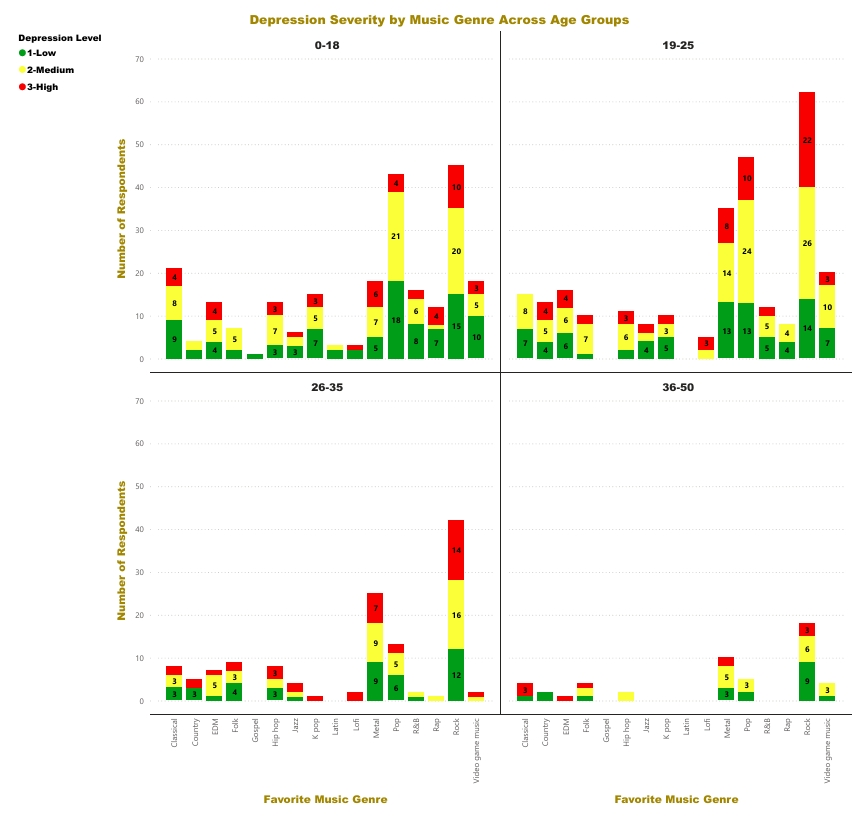

This screenshot's page, from the dashboard's own definition file:
{"tool":"powerbi","page":{"name":"Depression","canvas":[1280,1200],"ordinal":1},"visuals":[{"type":"columnChart","title":"Depression Severity by Music Genre Across Age Groups","fields":{"Category":["survey_results.Fav genre"],"Y":["CountNonNull(survey_results.Age)"],"Rows":["survey_results.Age Group"],"Series":["survey_results.Depression Level"]},"box":[9,0,1271.6,1200],"z":0}]}

Visuals, with their boxes in screenshot pixels (x1, y1, x2, y2), scaled from the page's 1280x1200 canvas onto the 854x818 screenshot:
"Depression Severity by Music Genre Across Age Groups" columnChart: l=6, t=0, r=853, b=817
